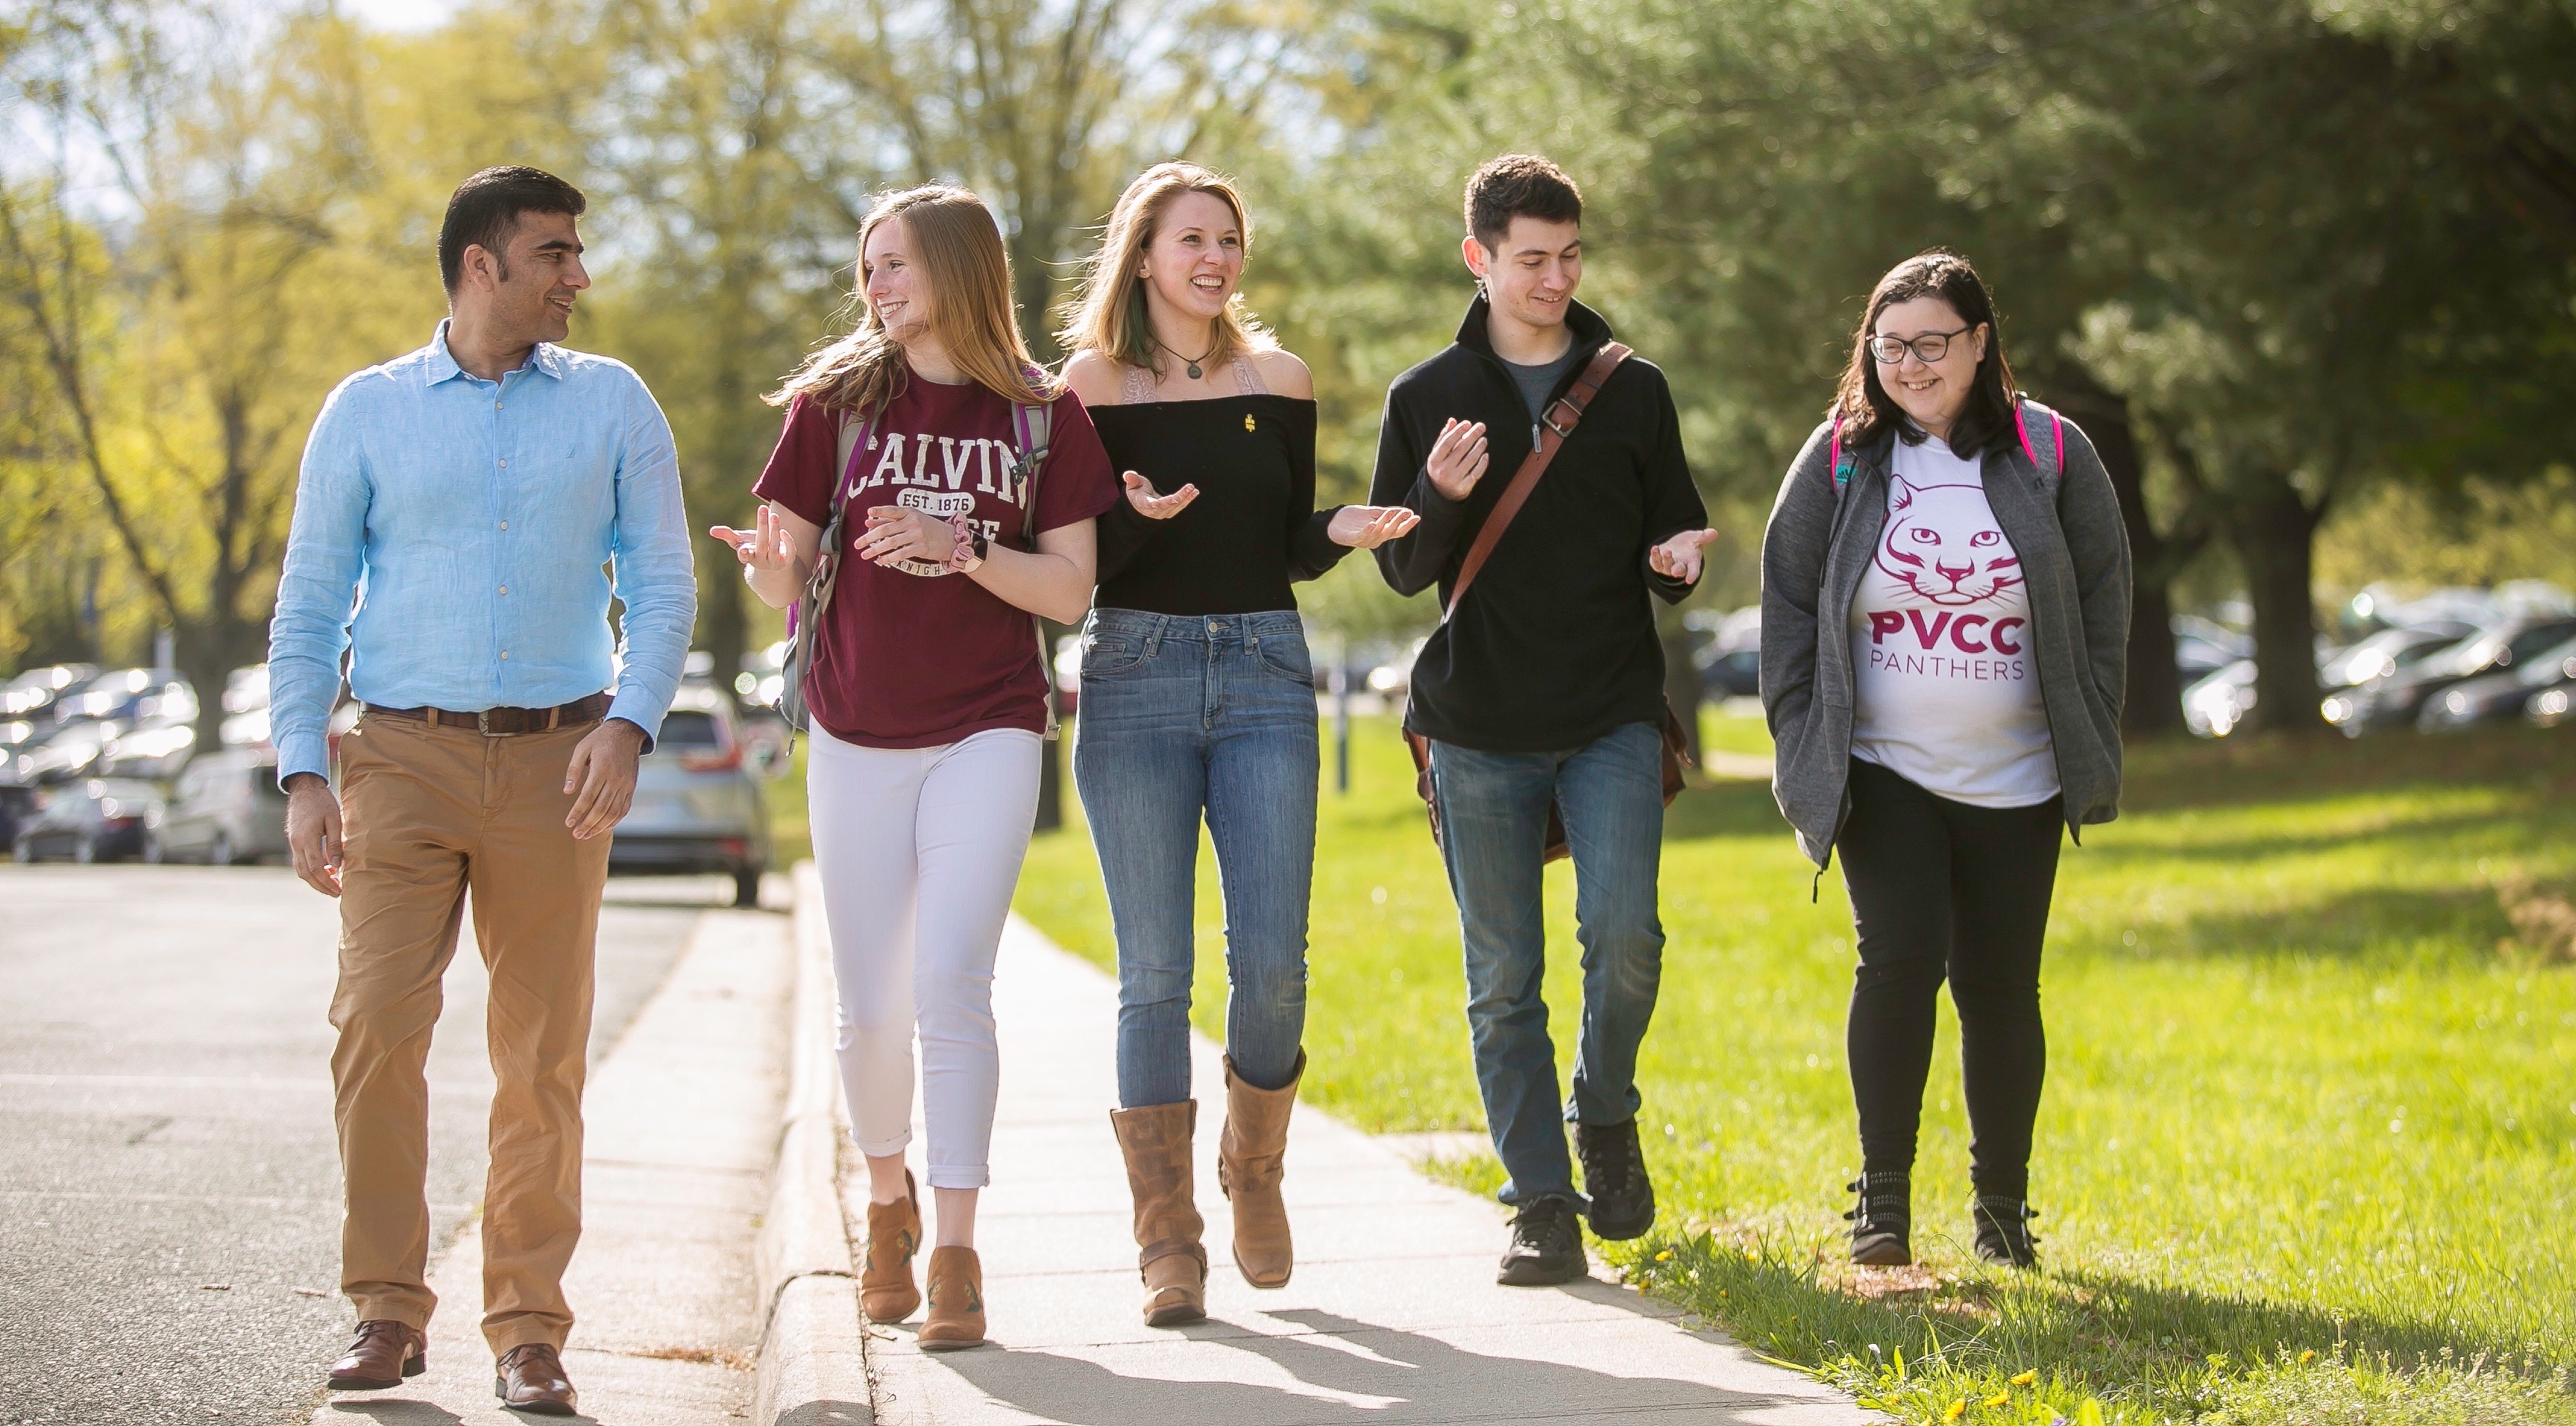Person: (259, 159, 698, 1426), (708, 181, 1119, 1353), (1057, 156, 1428, 1332), (1361, 150, 1725, 1291), (1761, 246, 2137, 1280)
